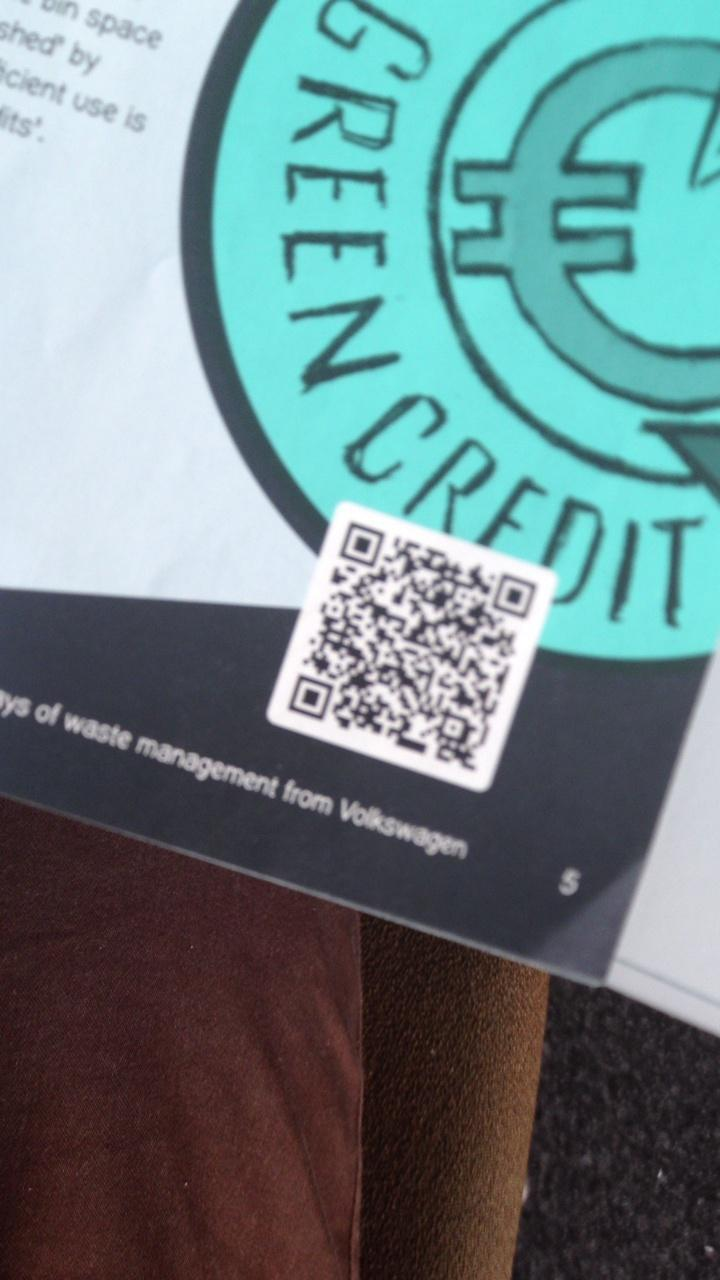Finder pattern: (337, 518, 387, 570), (489, 570, 539, 621), (285, 673, 337, 722)
